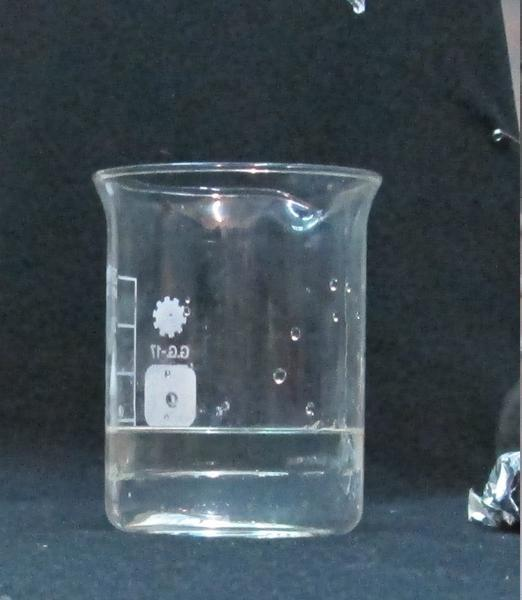Beaker: (88, 151, 382, 538)
